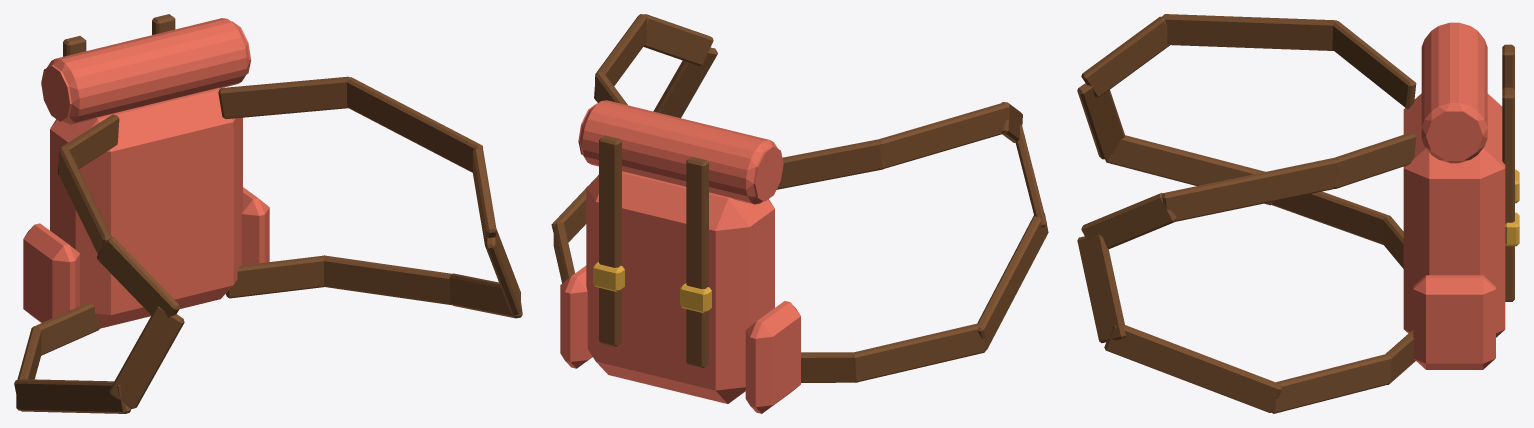
File: rolltop_backpack.glb
3 views of the same model, side by side, from view 1: azimuth 30°, elevation 25°; view 2: azimuth 150°, elevation 25°; view 3: azimuth 270°, elevation 25° (orthographic). The views are drawn at different scales.
Parts seen in each view (by area): view 1: rolltop_backpack; view 2: rolltop_backpack; view 3: rolltop_backpack.
Part boxes in pixels (<box>): rolltop_backpack: <box>14,14,522,413</box>; rolltop_backpack: <box>551,14,1048,413</box>; rolltop_backpack: <box>1077,14,1519,413</box>.
Bounding box in the file's own units: 0.7938 × 0.4523 × 0.6969.
